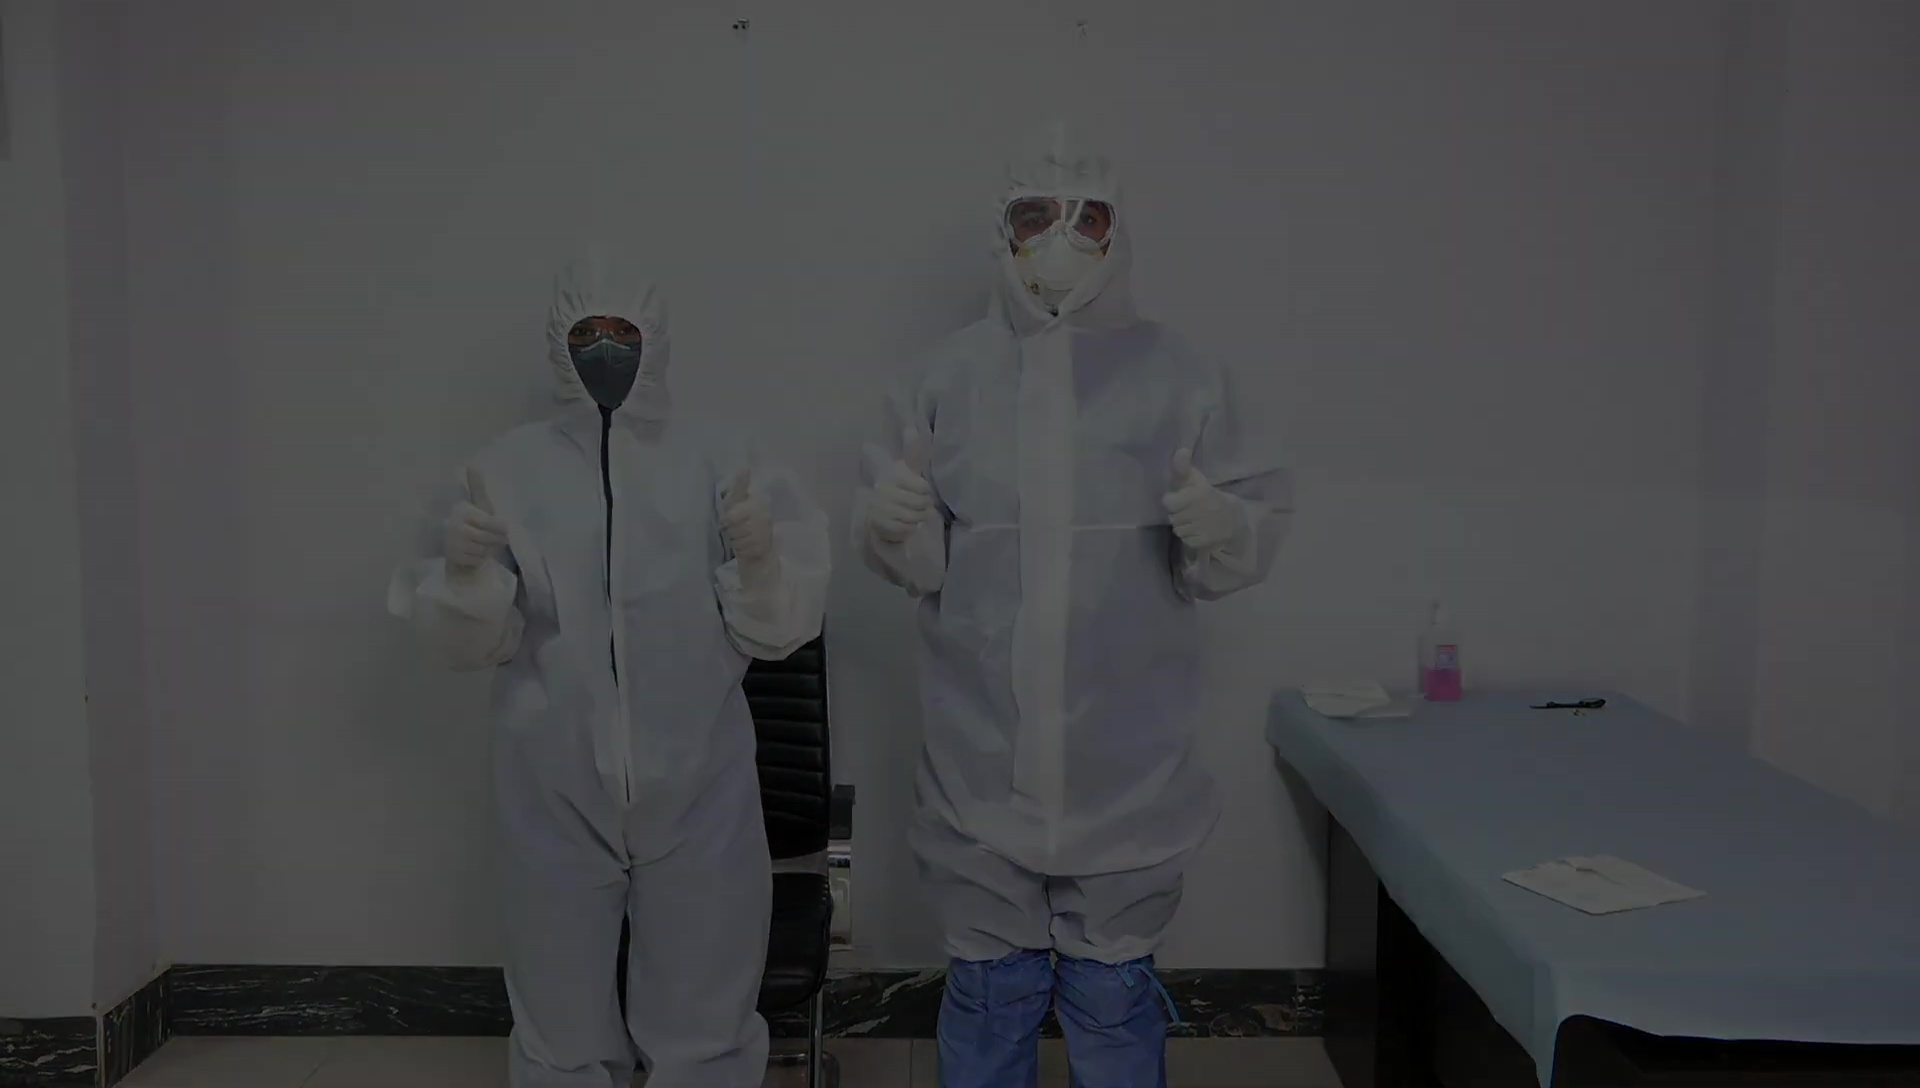Coverall: (848, 112, 1298, 1087), (393, 245, 828, 1078)
Gloves: (1161, 444, 1243, 557), (865, 424, 935, 549), (439, 465, 510, 569), (719, 464, 776, 563)
Goggles: (1006, 190, 1119, 253)
with_mask: (1012, 222, 1106, 314), (569, 337, 642, 410)
